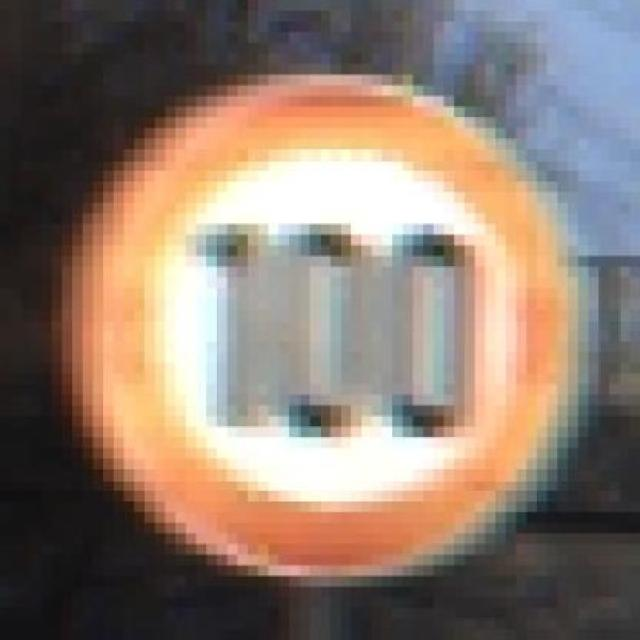forb_speed_over_100: (92, 84, 563, 576)
